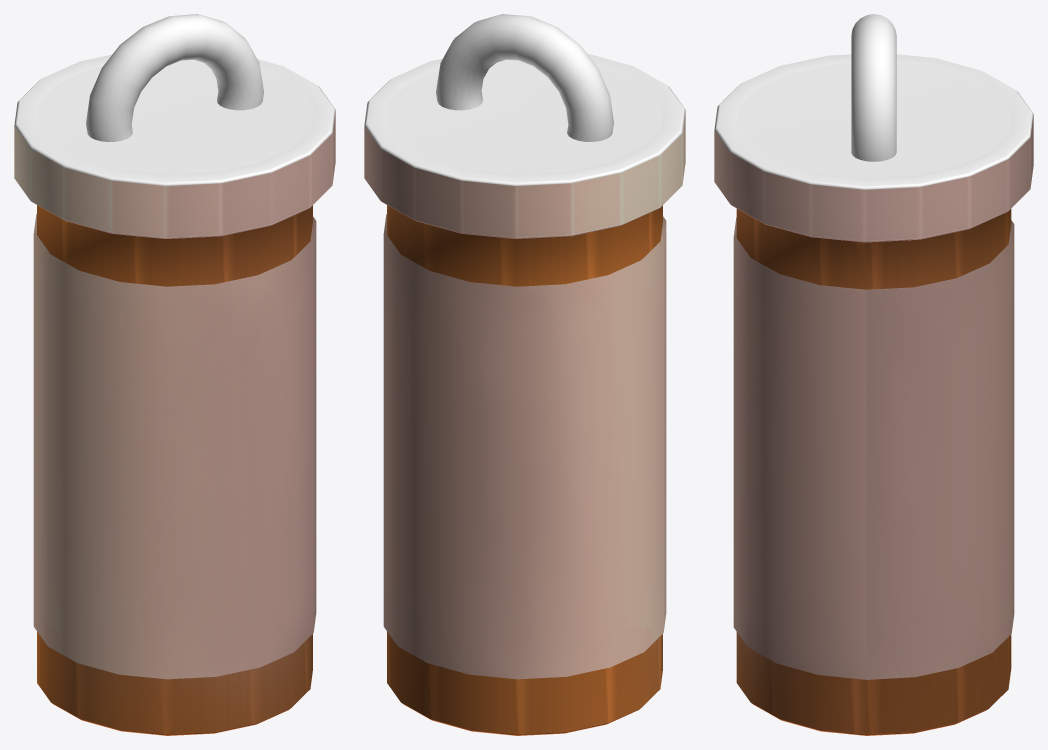
The model's file is pills.fbx.
3 views of the same model, side by side, from view 1: azimuth 30°, elevation 25°; view 2: azimuth 150°, elevation 25°; view 3: azimuth 270°, elevation 25° (orthographic).
Visible parts, largest first — view 1: pills4; view 2: pills4; view 3: pills4.
Part boxes in pixels (x1=…): pills4: x1=14, y1=14, x2=335, y2=735; pills4: x1=364, y1=14, x2=685, y2=735; pills4: x1=714, y1=14, x2=1033, y2=735.
Size of the model in its own units: 3.33 by 7.5 by 3.31.
Materials: 3 (2 with a texture image).
